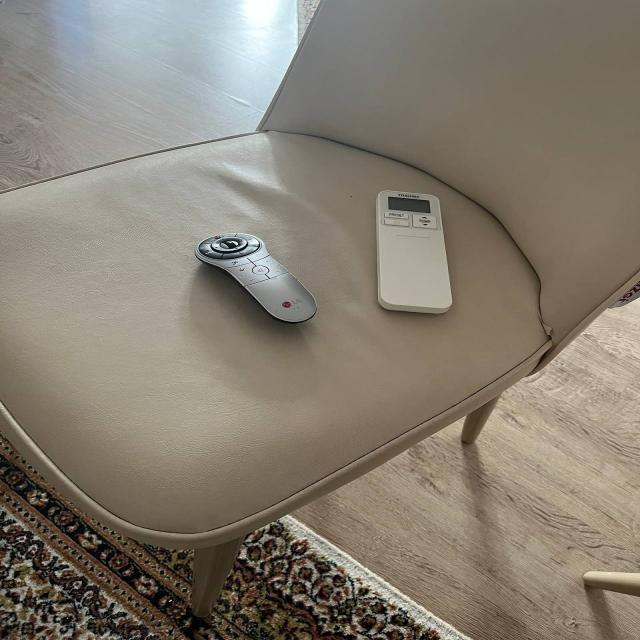remote: (357, 188, 488, 326), (194, 220, 332, 333)
